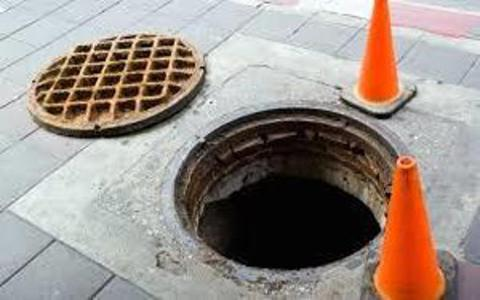open manhole: (167, 82, 305, 276)
